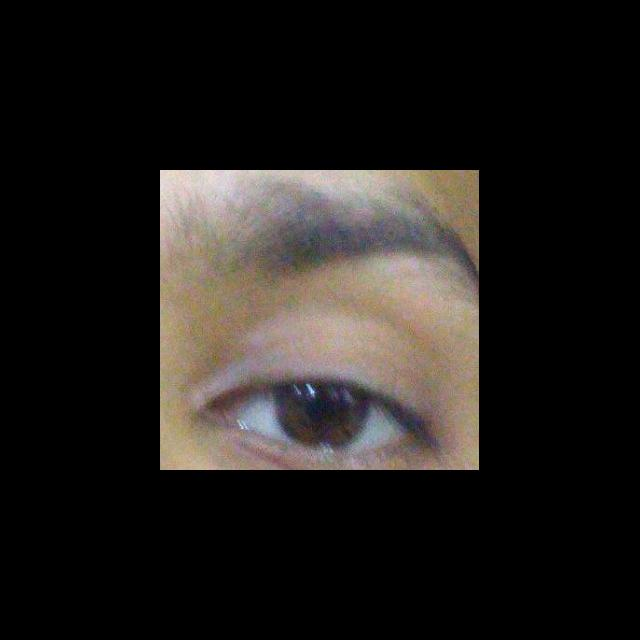eye: (235, 385, 412, 453)
iris: (274, 384, 368, 451)
